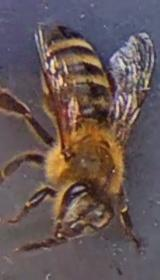varroa_mite: (56, 102, 84, 126)
